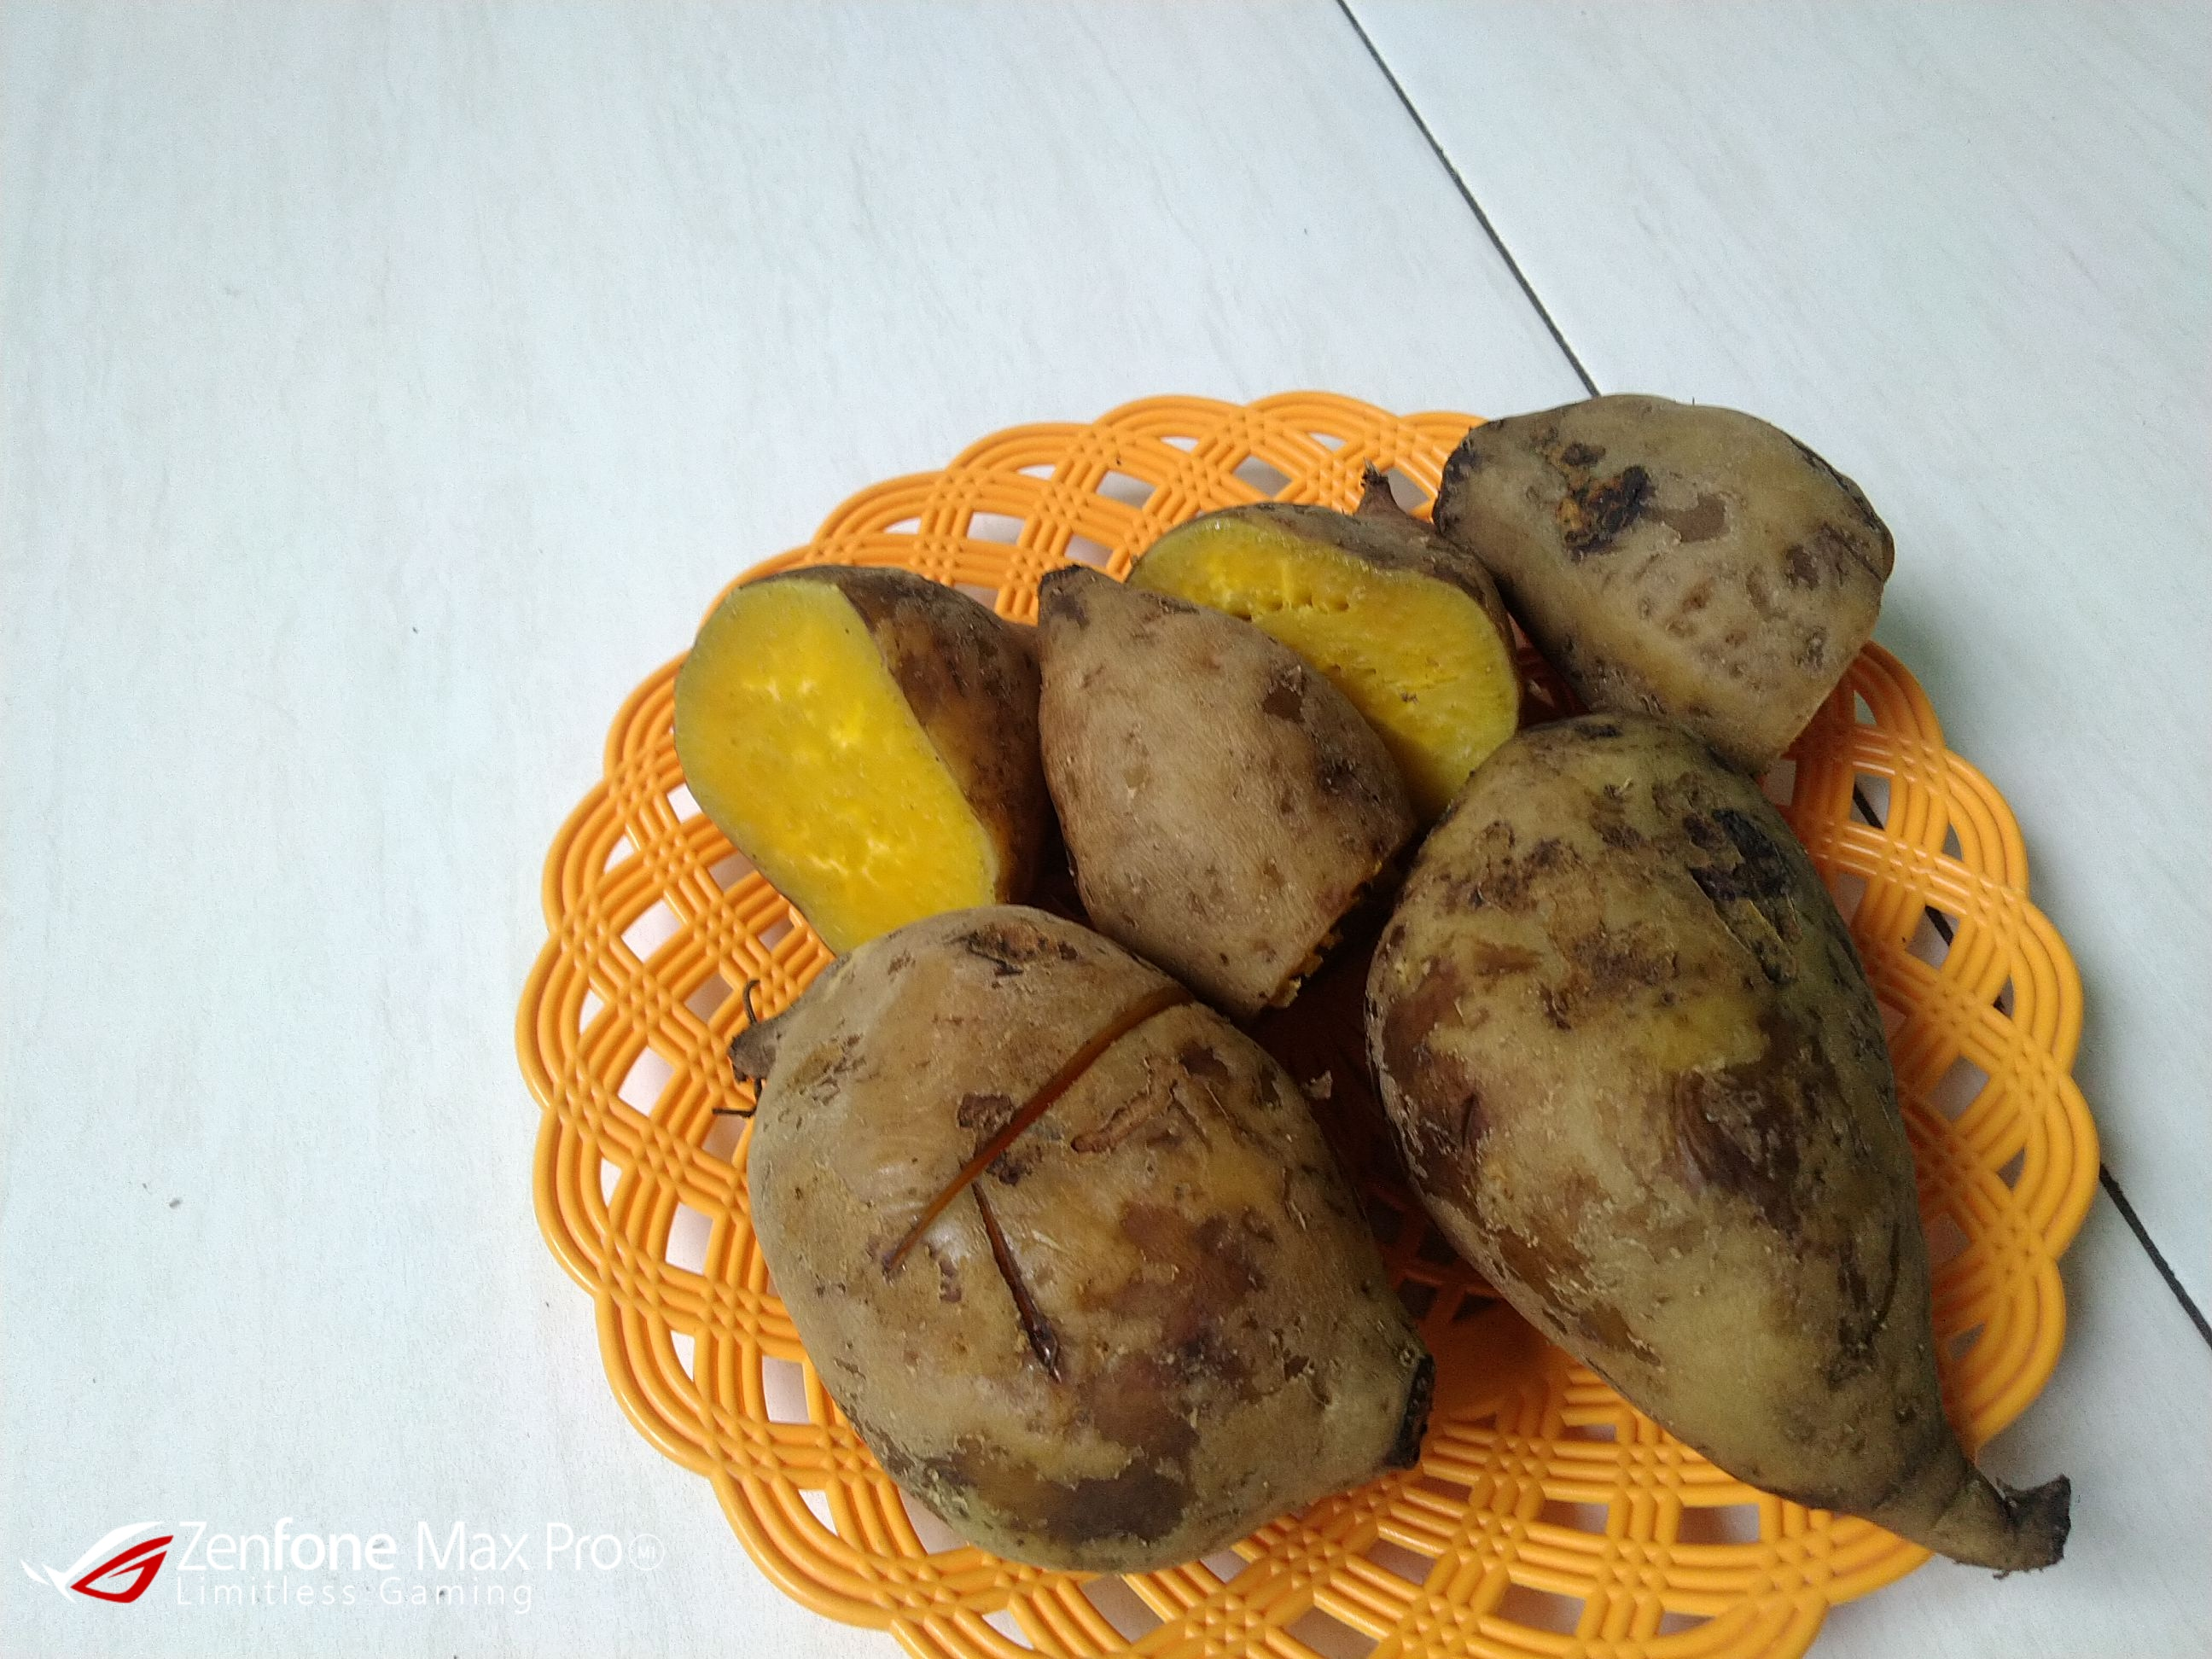ubi kuning: (1366, 706, 2123, 1591), (672, 894, 1451, 1568), (1416, 355, 1905, 763), (1012, 538, 1428, 997), (676, 563, 1054, 945)
